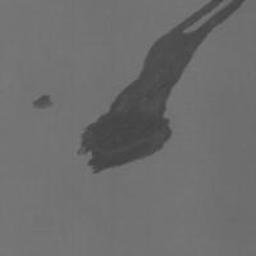Oil spot: (77, 0, 246, 174), (32, 93, 54, 109)
